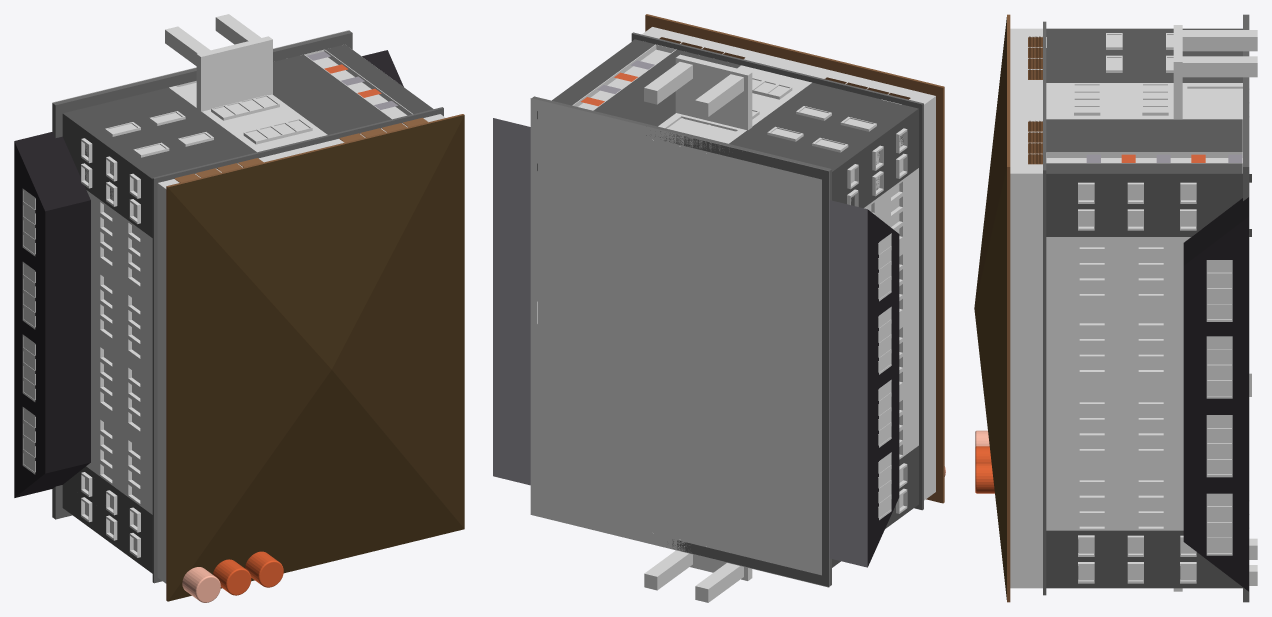
Rendered from GedungCACoba.fbx.
3 renders of one model, left to right at view 1: azimuth 30°, elevation 25°; view 2: azimuth 150°, elevation 25°; view 3: azimuth 270°, elevation 25°, orthographic. The views are drawn at different scales.
Parts seen in each view (by area): view 1: Gedung Ca, Toren1, Toren3, Toren2; view 2: Ground, Gedung Ca; view 3: Gedung Ca, Toren3.
Boxes of the visible parts, box(x1,y1,x2,y2) form: Gedung Ca: box(14, 14, 464, 601); Toren1: box(182, 567, 220, 602); Toren3: box(245, 551, 283, 587); Toren2: box(213, 559, 251, 595); Ground: box(530, 98, 829, 587); Gedung Ca: box(493, 14, 944, 602); Gedung Ca: box(974, 14, 1257, 602); Toren3: box(975, 463, 994, 493).
Size of the model in its own units: 1396 by 1785 by 865.
